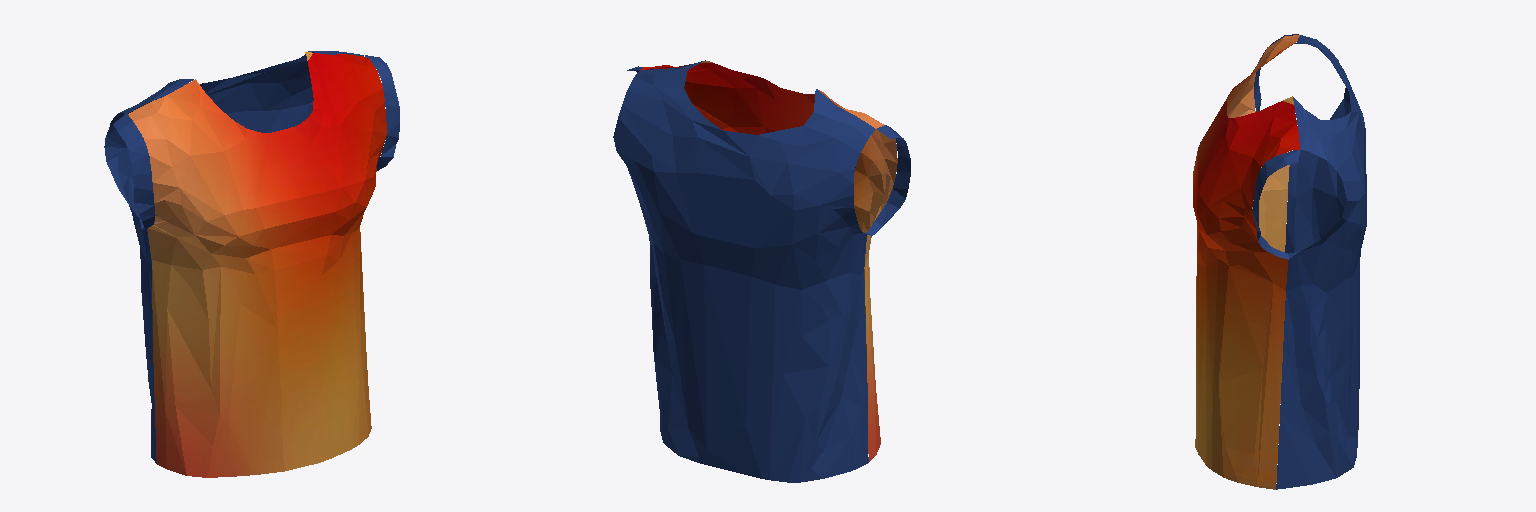
The picture shows the model from 3 angles: view 1: azimuth 30°, elevation 25°; view 2: azimuth 150°, elevation 25°; view 3: azimuth 270°, elevation 25°; orthographic projection.
Parts seen in each view (by area): view 1: T_shirt.004; view 2: T_shirt.004; view 3: T_shirt.004.
Part boxes in pixels (left/top/right/bottom): T_shirt.004: left=104, top=51, right=399, bottom=477; T_shirt.004: left=613, top=60, right=910, bottom=482; T_shirt.004: left=1193, top=34, right=1366, bottom=489.
Size of the model in its own units: 0.2935 by 0.3892 by 0.1639.
Materials: 2 (1 with a texture image).